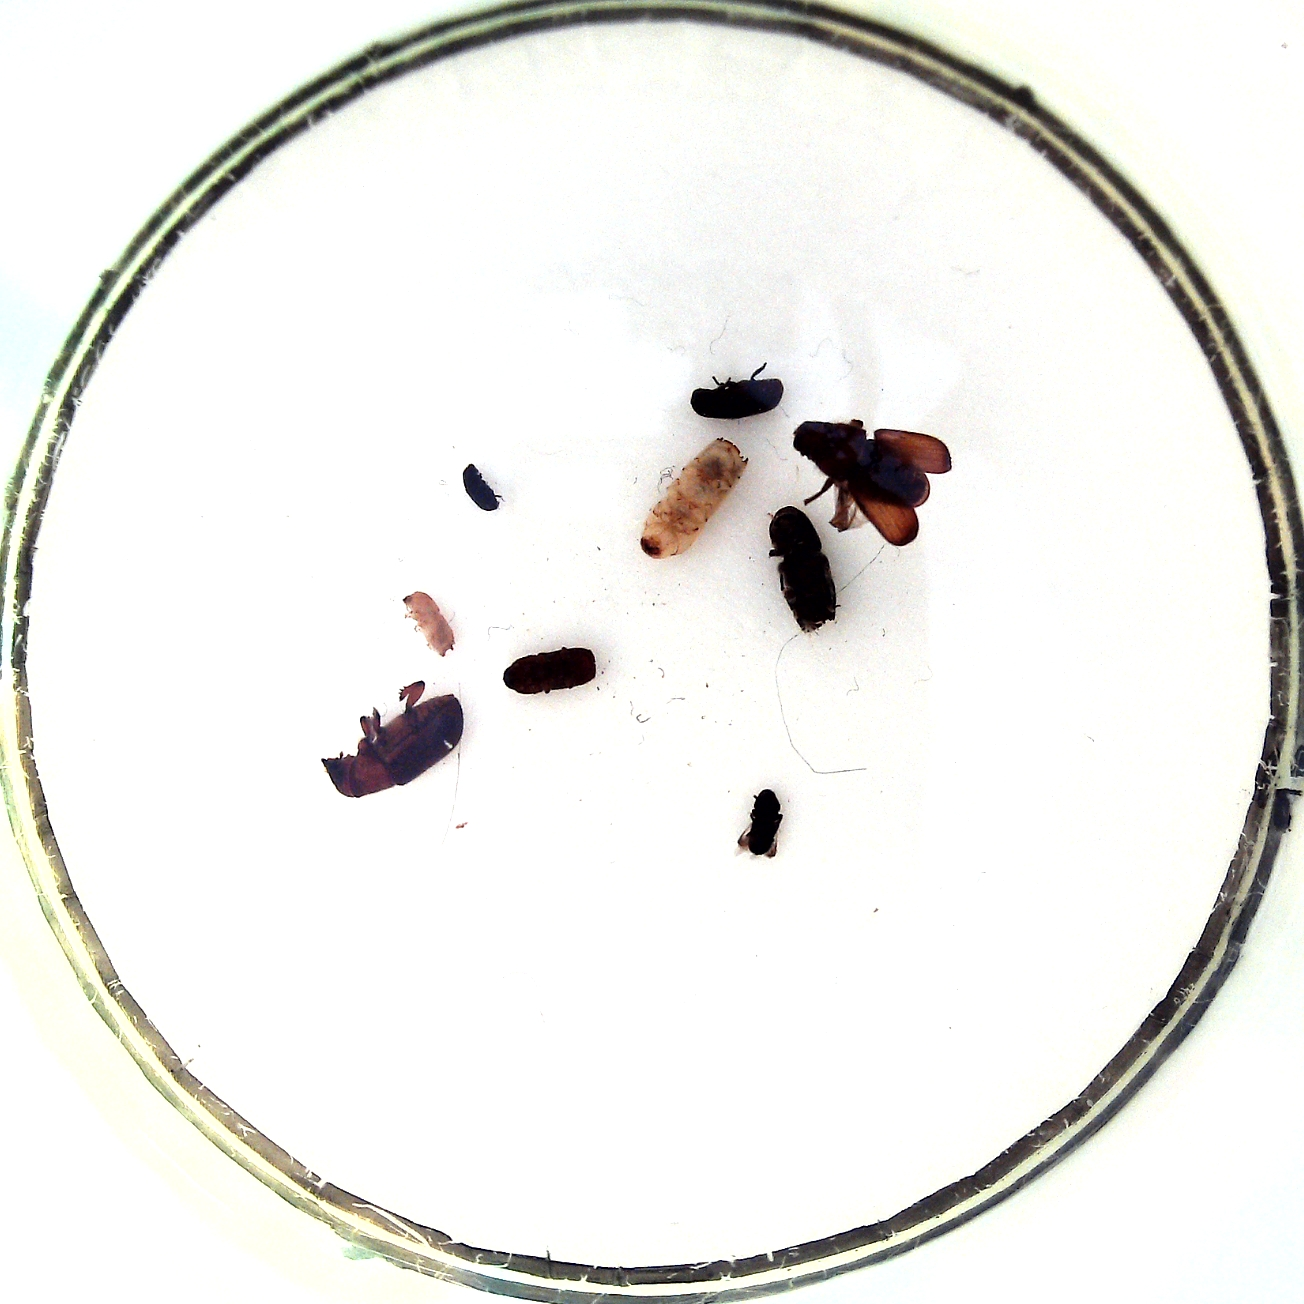Boerner: (634, 432, 752, 564)
Leconte: (792, 416, 957, 550), (315, 679, 472, 802), (761, 502, 844, 638)
Linnaeus: (498, 641, 605, 700)
acuminatus: (393, 584, 461, 662)
armandi: (688, 359, 788, 422)
coleoptera: (731, 785, 791, 863), (457, 454, 508, 515)
